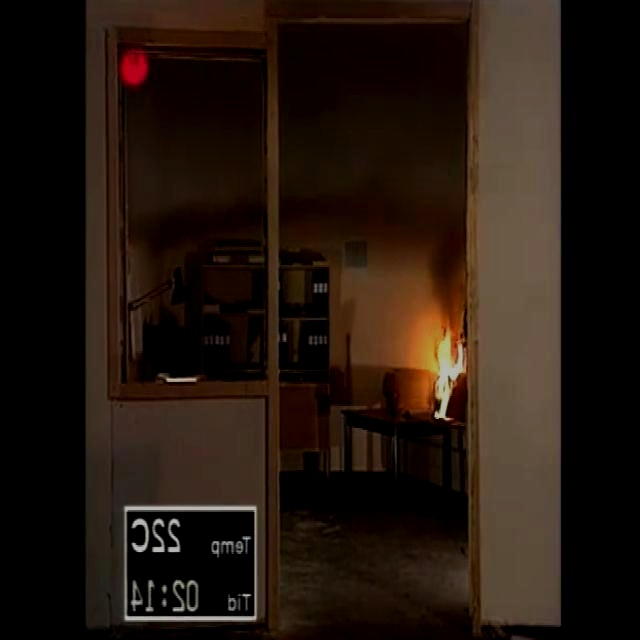fire: (396, 312, 470, 434)
